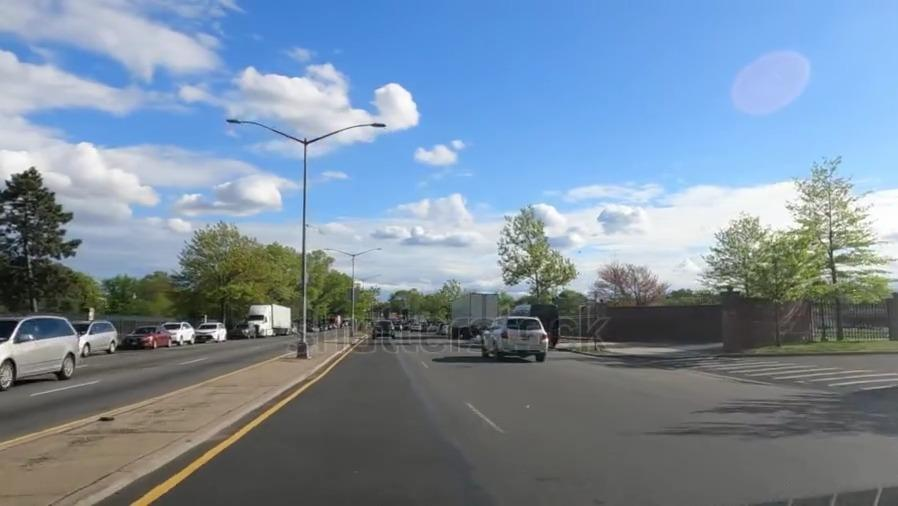car: (2, 313, 79, 385), (481, 318, 548, 362), (72, 315, 116, 356), (121, 326, 171, 351), (166, 319, 193, 345), (196, 321, 225, 343), (372, 320, 396, 339), (231, 325, 255, 337)
pedestrian: (640, 352, 898, 394)
truck: (249, 303, 293, 335)
van: (512, 303, 562, 349)
